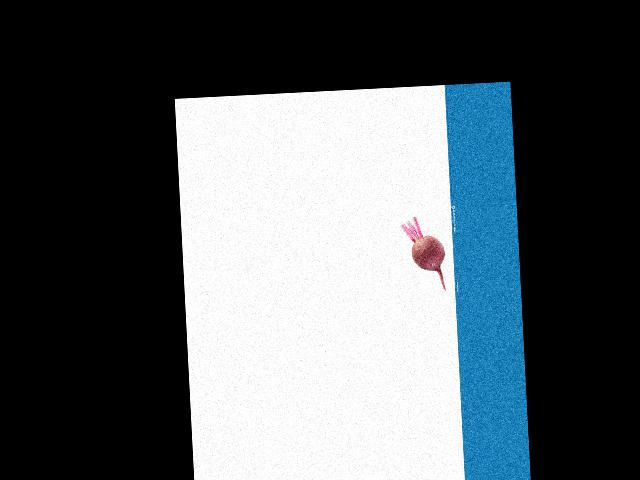beet: (401, 216, 446, 292)
